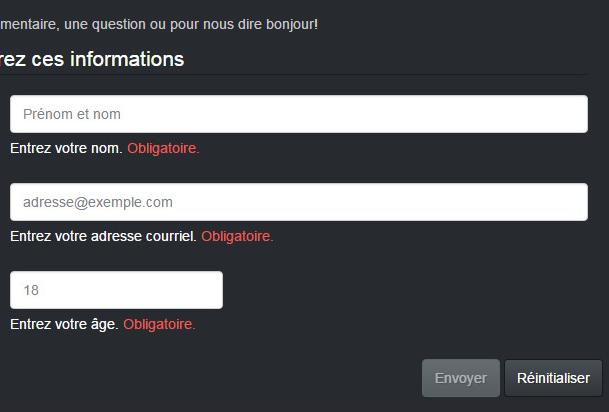button: (505, 359, 604, 399), (419, 357, 502, 401)
field: (10, 180, 589, 223), (8, 94, 590, 136), (11, 272, 225, 312)
